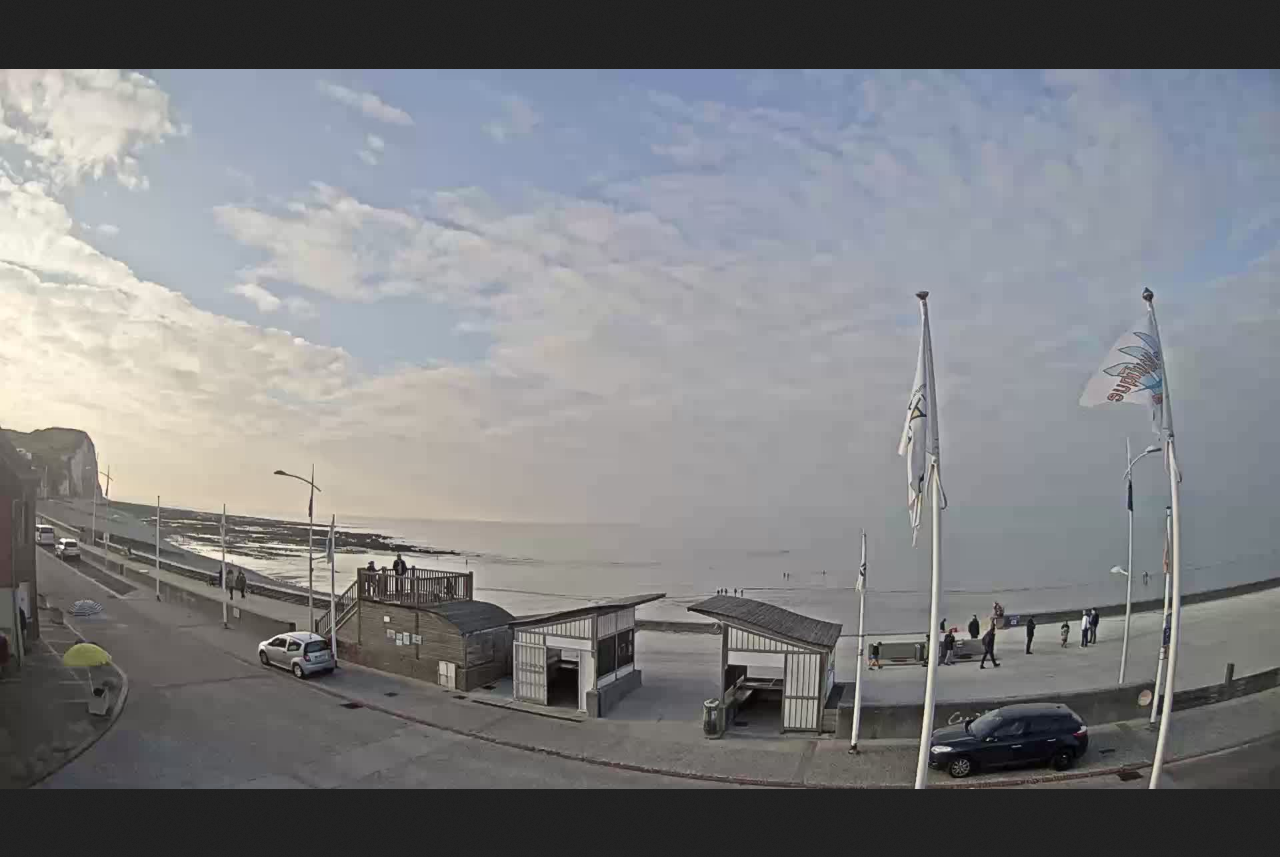maybe: (1075, 301, 1174, 440)
no: (900, 327, 940, 544), (852, 536, 871, 598), (1161, 520, 1170, 576)
